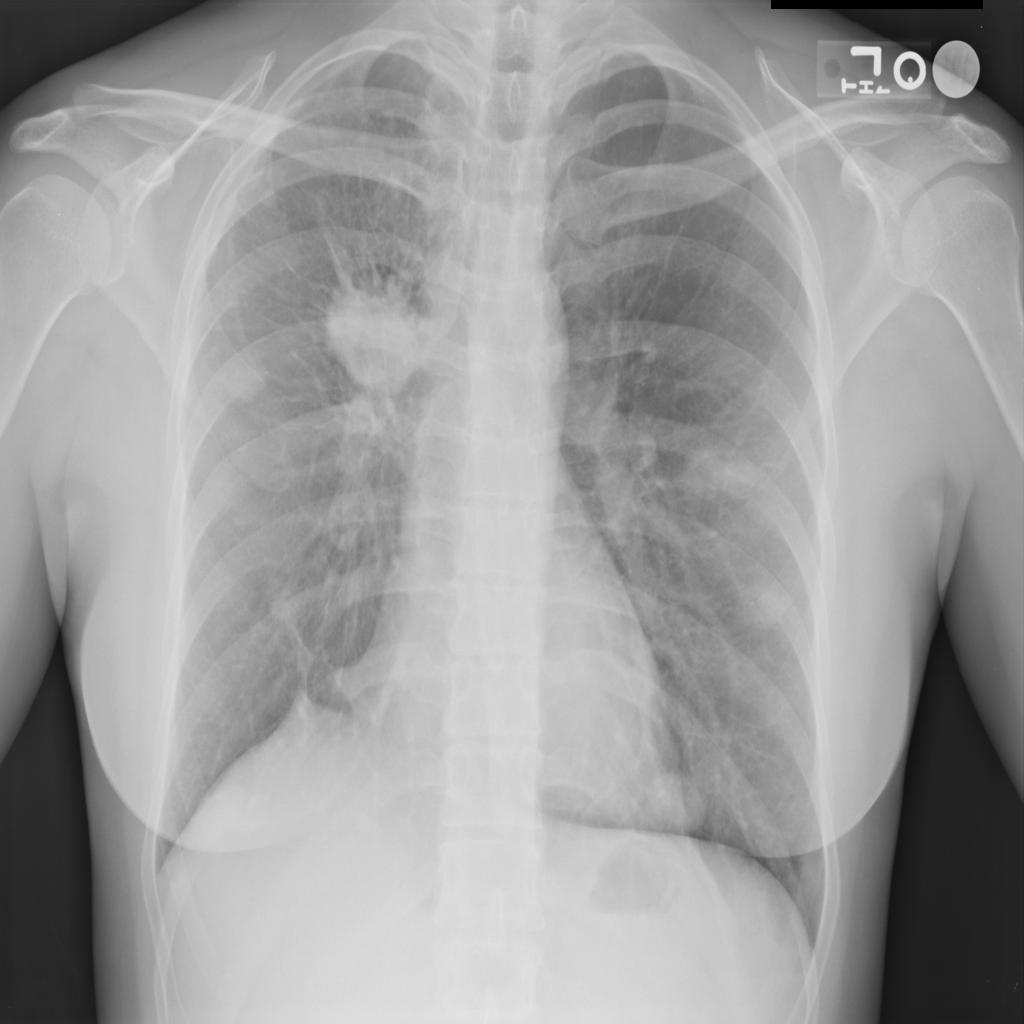nodule: (313, 265, 442, 408), (670, 416, 776, 525), (625, 752, 723, 858), (732, 561, 801, 643), (206, 336, 279, 413), (253, 560, 315, 642), (248, 166, 295, 217)
